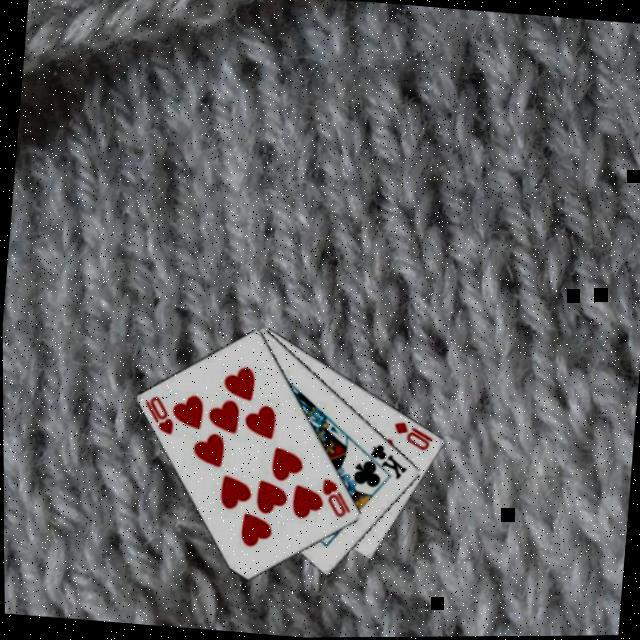10D: (390, 419, 438, 455)
10H: (316, 476, 356, 522), (139, 392, 179, 438)
KC: (358, 442, 410, 484)
